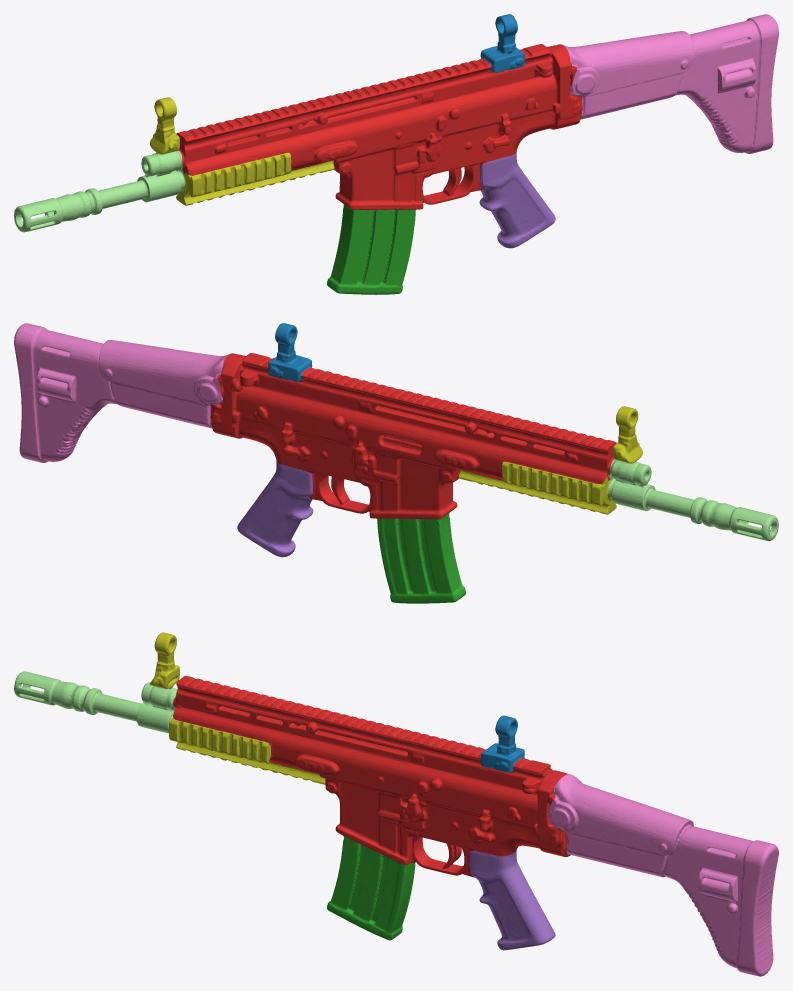
The model's file is desert-scar.glb.
The picture shows the model from 3 angles, top to bottom: view 1: azimuth 30°, elevation 25°; view 2: azimuth 150°, elevation 25°; view 3: azimuth 330°, elevation 25°; orthographic projection.
Parts seen in each view (by area): view 1: model_part9, model_part4, model_part1, model_part8, model_part2, model_part6, model_part3, model_part7, model_part0; view 2: model_part9, model_part4, model_part1, model_part8, model_part2, model_part5, model_part3, model_part7, model_part0; view 3: model_part9, model_part4, model_part1, model_part2, model_part8, model_part6, model_part3, model_part7, model_part0.
Part boxes in pixels (x1,y1,x2,y2): model_part9: (176, 44, 582, 209); model_part4: (561, 14, 778, 153); model_part1: (327, 204, 415, 294); model_part8: (14, 150, 185, 232); model_part2: (479, 152, 555, 248); model_part6: (184, 152, 291, 197); model_part3: (480, 14, 524, 72); model_part7: (176, 160, 334, 205); model_part0: (150, 97, 179, 154); model_part9: (210, 353, 616, 519); model_part4: (14, 323, 234, 462); model_part1: (377, 513, 465, 603); model_part8: (608, 459, 778, 541); model_part2: (237, 460, 313, 557); model_part5: (502, 461, 610, 506); model_part3: (268, 323, 312, 381); model_part7: (458, 469, 616, 514); model_part0: (613, 406, 642, 463); model_part9: (173, 675, 570, 877); model_part4: (549, 774, 778, 976); model_part1: (327, 836, 415, 940); model_part2: (469, 850, 555, 950); model_part8: (14, 671, 177, 733); model_part6: (169, 717, 270, 763); model_part3: (480, 715, 524, 772); model_part7: (176, 742, 325, 784); model_part0: (150, 632, 179, 688).
Size of the model in its own units: 0.12 by 0.0376 by 0.00744.
